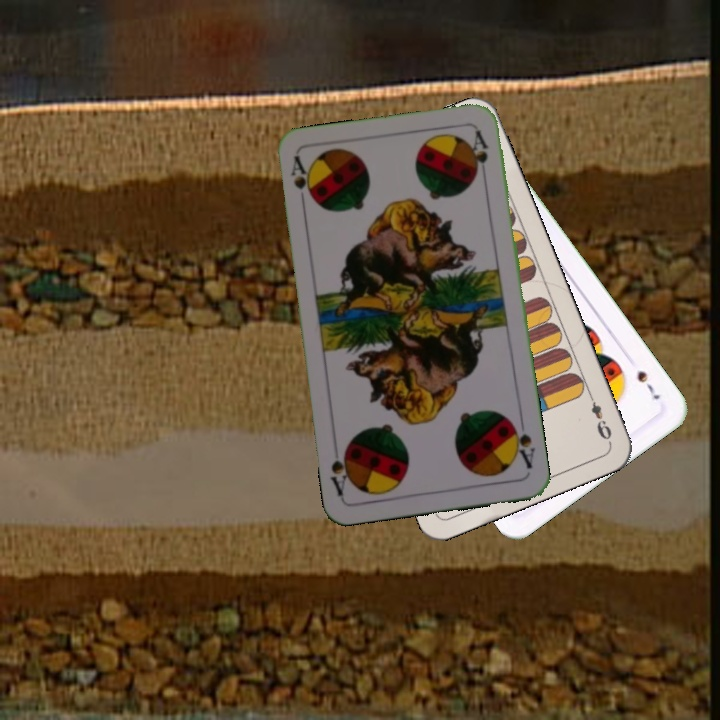E9: (584, 389, 615, 445)
S7: (632, 366, 663, 403)
SA: (506, 414, 538, 471), (287, 153, 315, 212)
